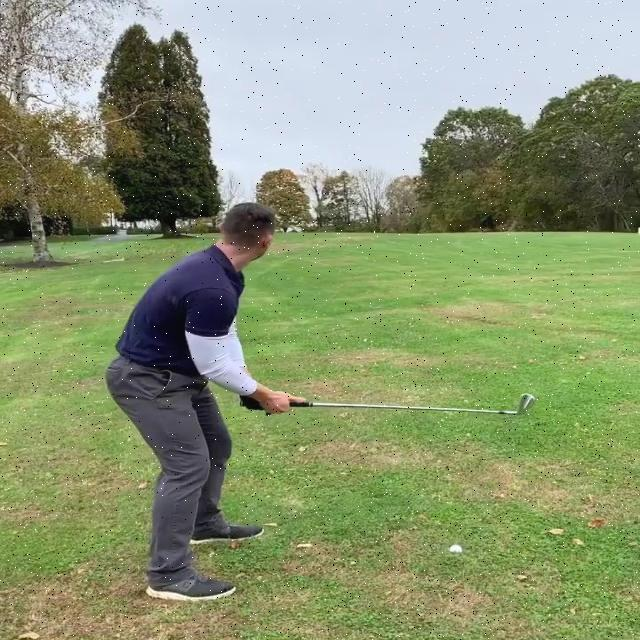ClubHead: (519, 393, 536, 416)
GolfBall: (450, 544, 462, 552)
